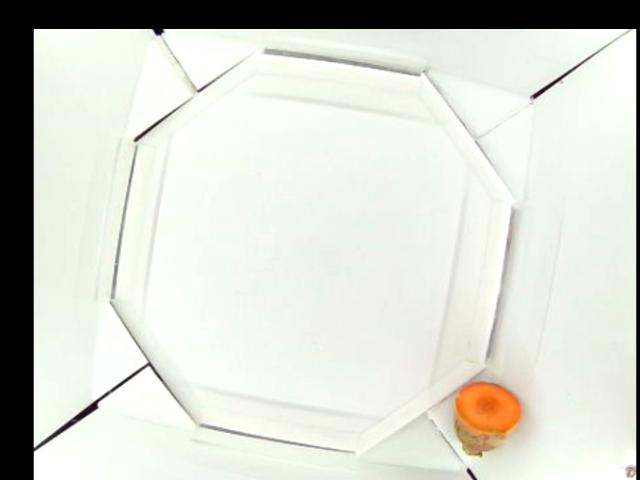Carrot: (452, 383, 521, 456)
